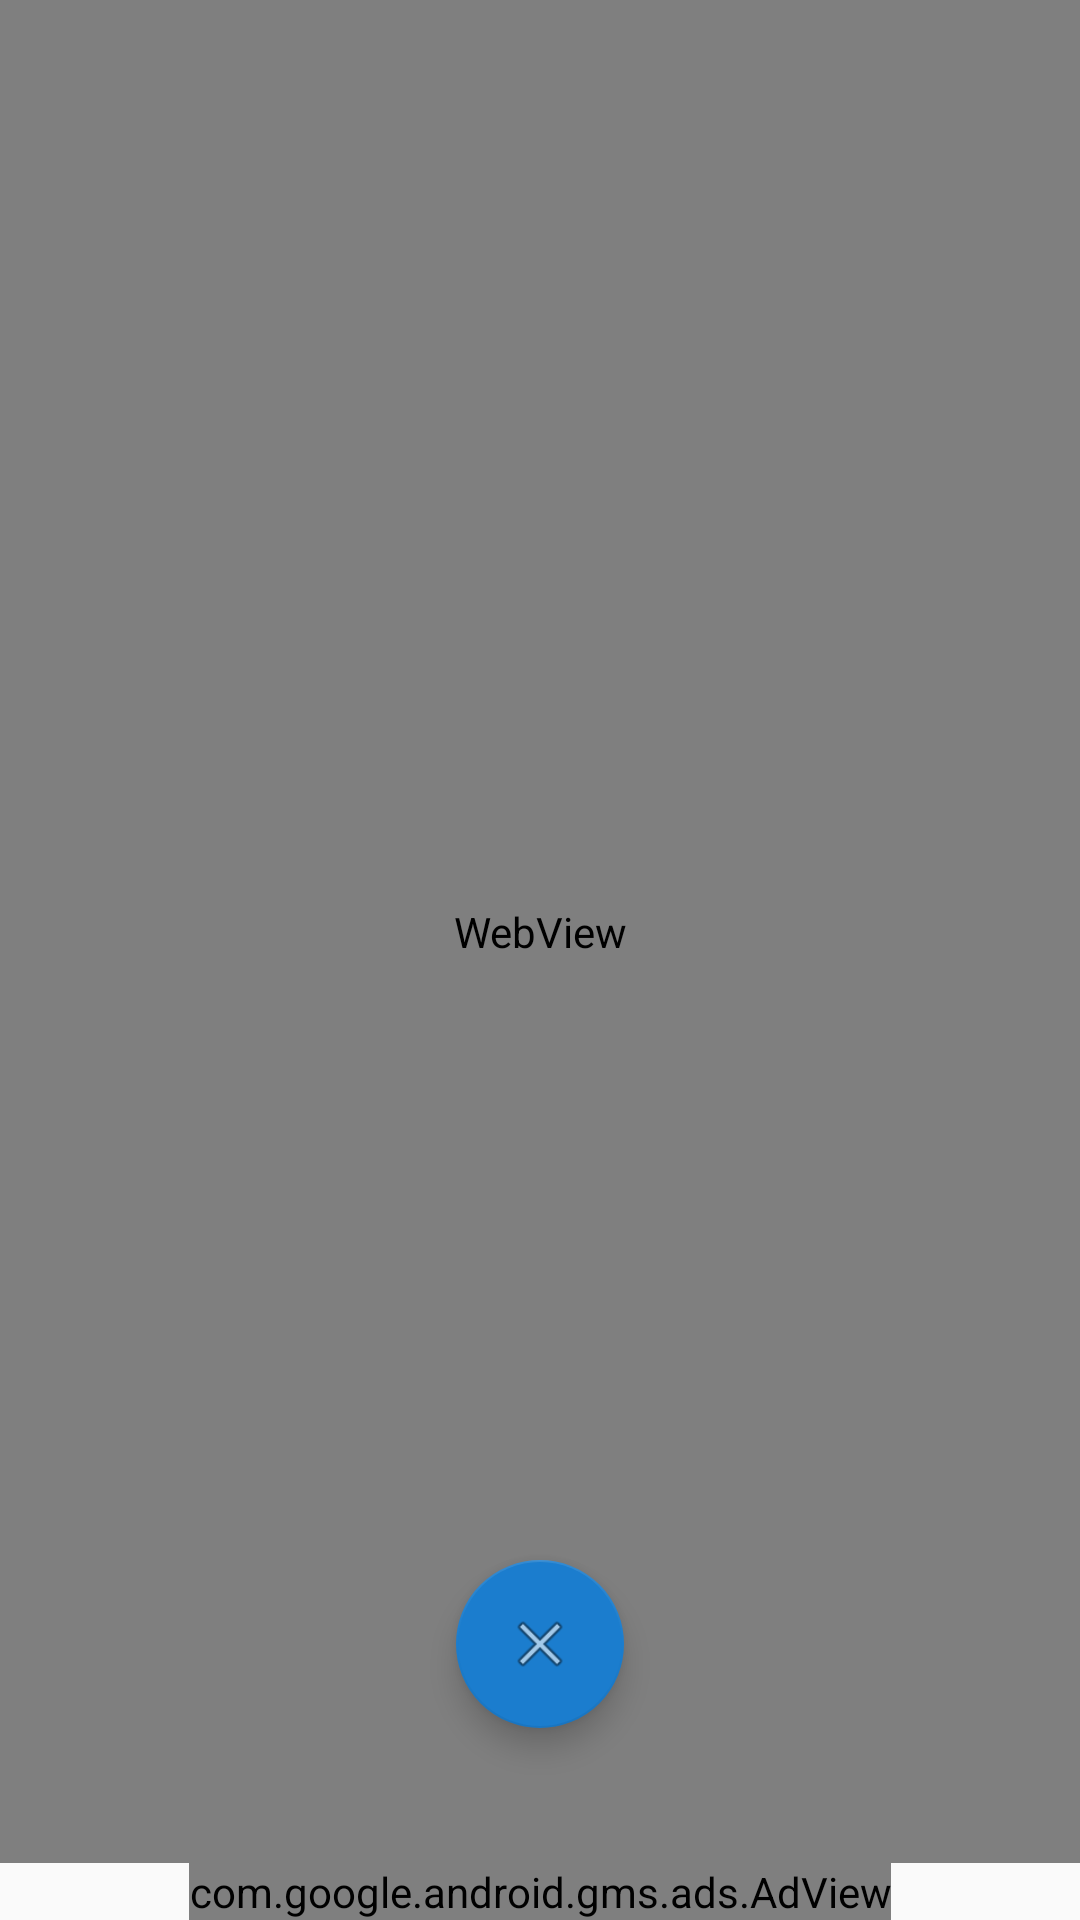

Icons on this 1080×1920 Android screen, each with the point to tap as (x=x, y=y):
close clear cancel: (x=540, y=1644)
